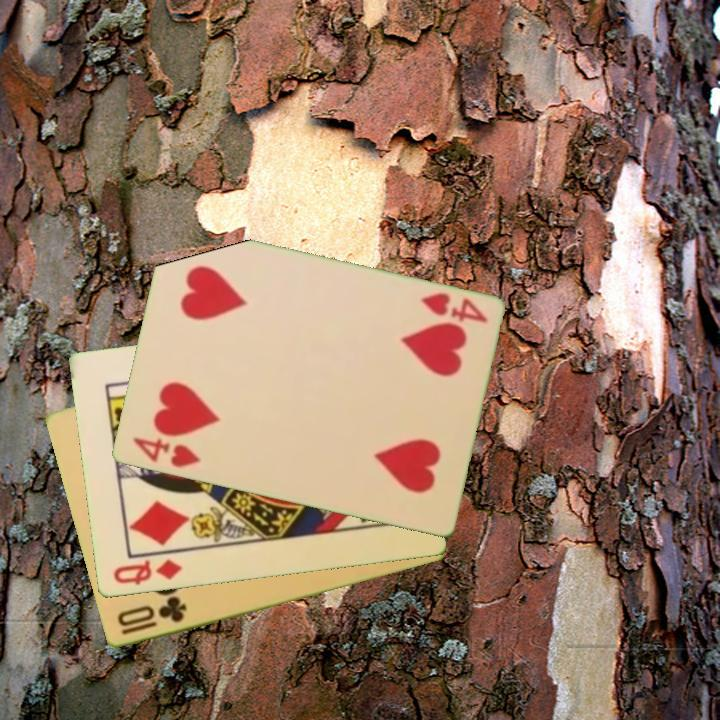10c: (113, 594, 190, 638)
4h: (128, 434, 202, 471), (417, 289, 491, 326)
Qd: (109, 556, 185, 589)
